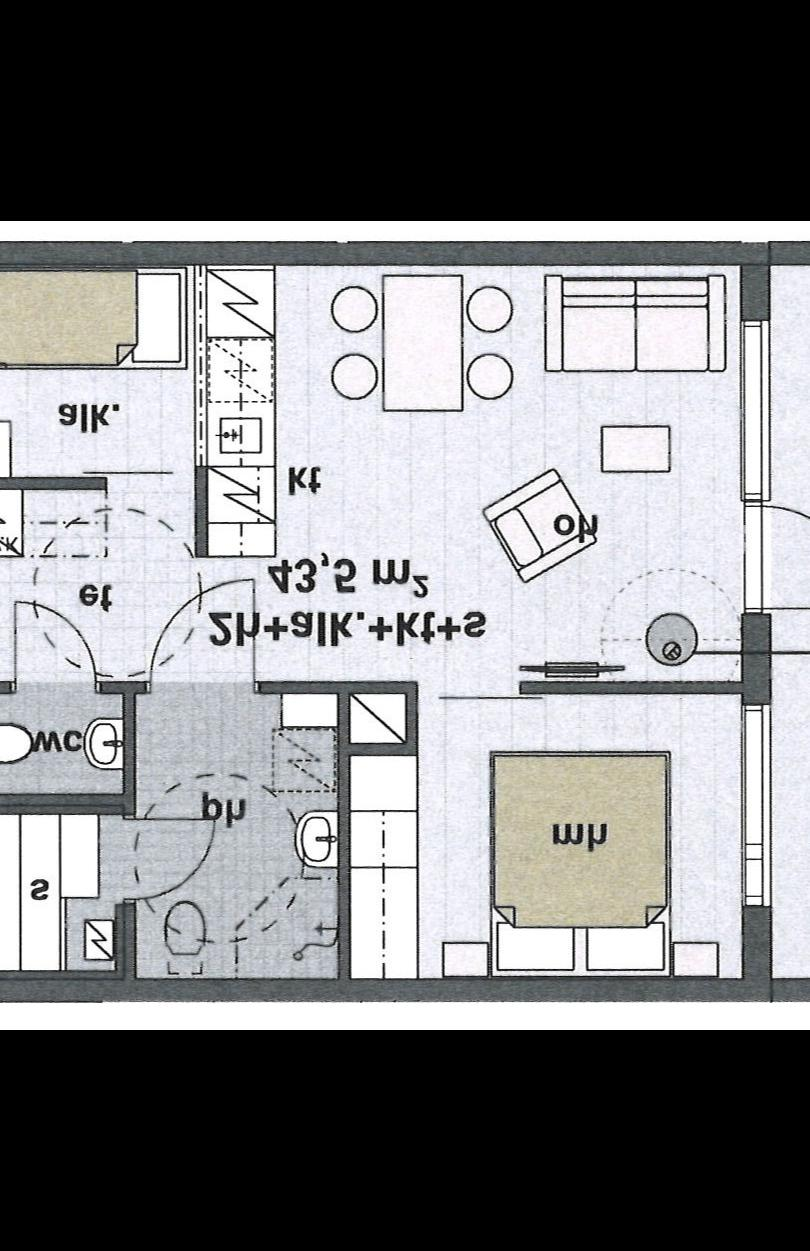door: (143, 575, 265, 697), (115, 810, 218, 909), (4, 592, 101, 694), (747, 500, 810, 617)
window: (736, 690, 776, 920), (734, 310, 776, 506)
